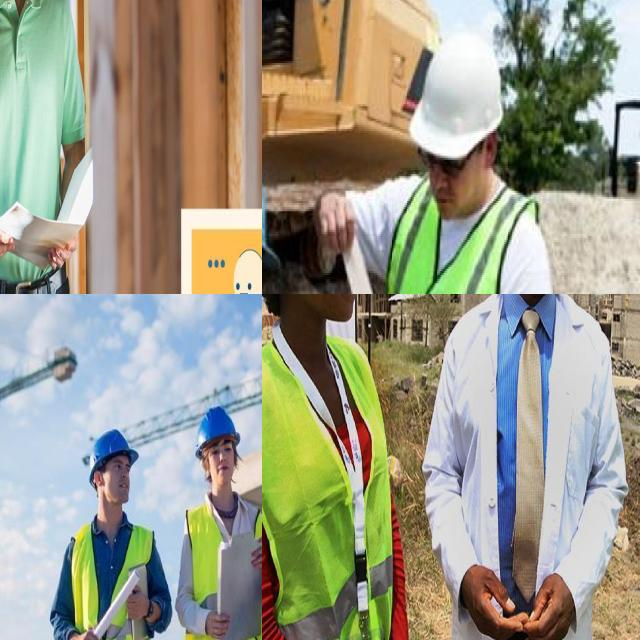No_Ear-Protection: (93, 469, 104, 487)
No_Glasses: (111, 456, 132, 476), (207, 443, 234, 457)
face_nomask: (426, 154, 478, 226), (288, 294, 367, 326), (97, 451, 135, 506), (202, 438, 236, 483)
glasses: (415, 142, 469, 180)
hand_noglove: (458, 556, 522, 640), (521, 577, 575, 640), (318, 188, 361, 256), (121, 580, 156, 626), (203, 604, 228, 640), (251, 536, 262, 583), (67, 630, 99, 640)
head_helmet: (403, 34, 507, 162), (85, 428, 138, 469), (195, 404, 239, 447)
person: (323, 32, 546, 294), (455, 294, 586, 640), (262, 294, 392, 640), (0, 0, 90, 294), (185, 412, 262, 640), (87, 430, 152, 640)
vest: (262, 352, 398, 640), (381, 180, 543, 294), (184, 507, 262, 640), (73, 523, 154, 640)
